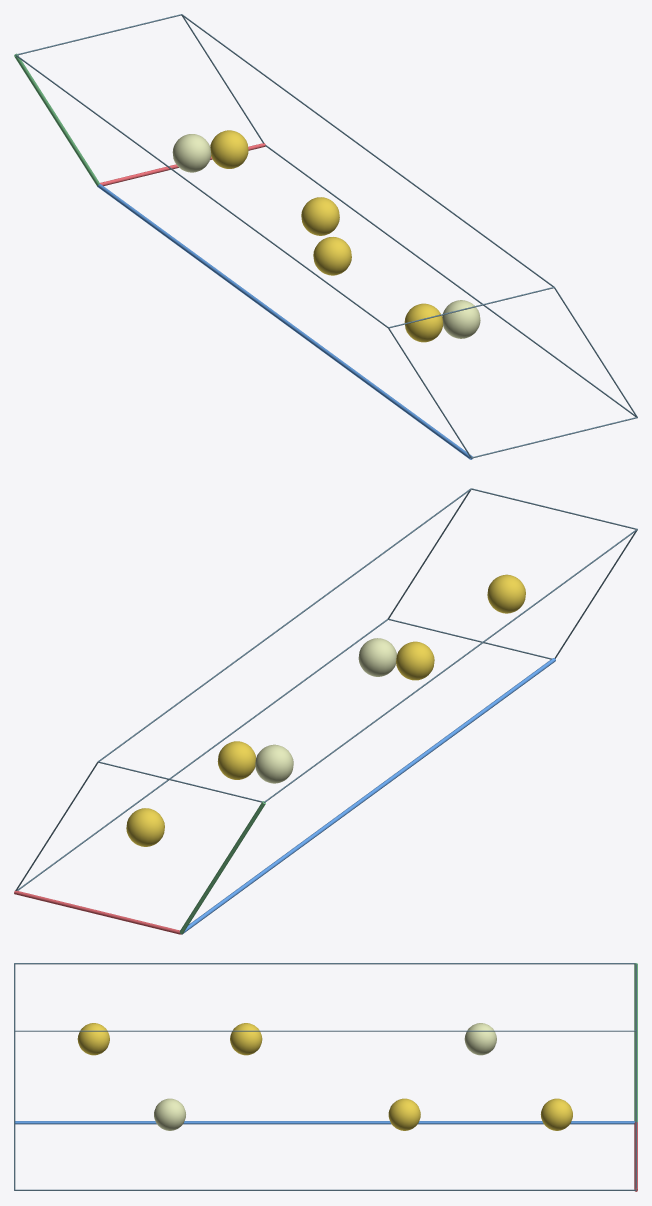
File: molybdenite.glb
3 views of the same model, one above another, from view 1: azimuth 30°, elevation 25°; view 2: azimuth 150°, elevation 25°; view 3: azimuth 270°, elevation 25° (orthographic). The views are drawn at different scales.
Visible parts, largest first — view 1: Ô mạng và các trục a, b, c, S · S · 1 (×4), Mo · Mo · 1 (×2); view 2: Ô mạng và các trục a, b, c, S · S · 1 (×4), Mo · Mo · 1 (×2); view 3: Ô mạng và các trục a, b, c, S · S · 1 (×4), Mo · Mo · 1 (×2).
Part boxes in pixels (x1,y1,x2,y2): Ô mạng và các trục a, b, c: (14,14,637,459); S · S · 1 (×4): (210,130,443,342); Mo · Mo · 1 (×2): (172,134,480,338); Ô mạng và các trục a, b, c: (14,488,637,934); S · S · 1 (×4): (126,574,525,846); Mo · Mo · 1 (×2): (255,638,396,783); Ô mạng và các trục a, b, c: (14,963,637,1191); S · S · 1 (×4): (77,1023,572,1130); Mo · Mo · 1 (×2): (154,1023,496,1130).
Size of the model in its own units: 4.78 by 2.79 by 12.34.
